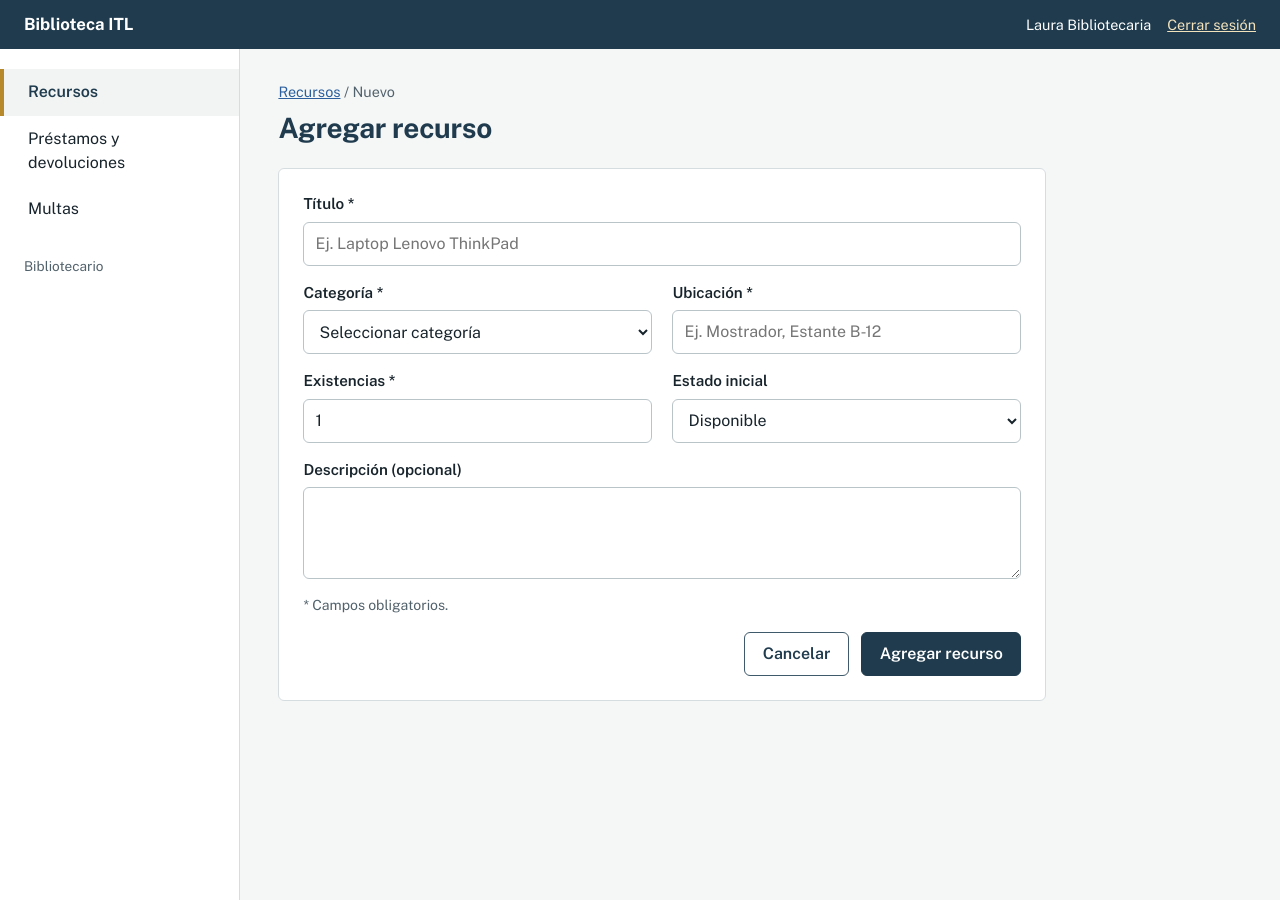
Recursos (CU03) › el formulario marca cada campo obligatorio que falta y no envía
The width and height of the screenshot is (1280, 900).
Clear the number field labelled "Existencias *" at (478, 421), box [303, 399, 652, 443]
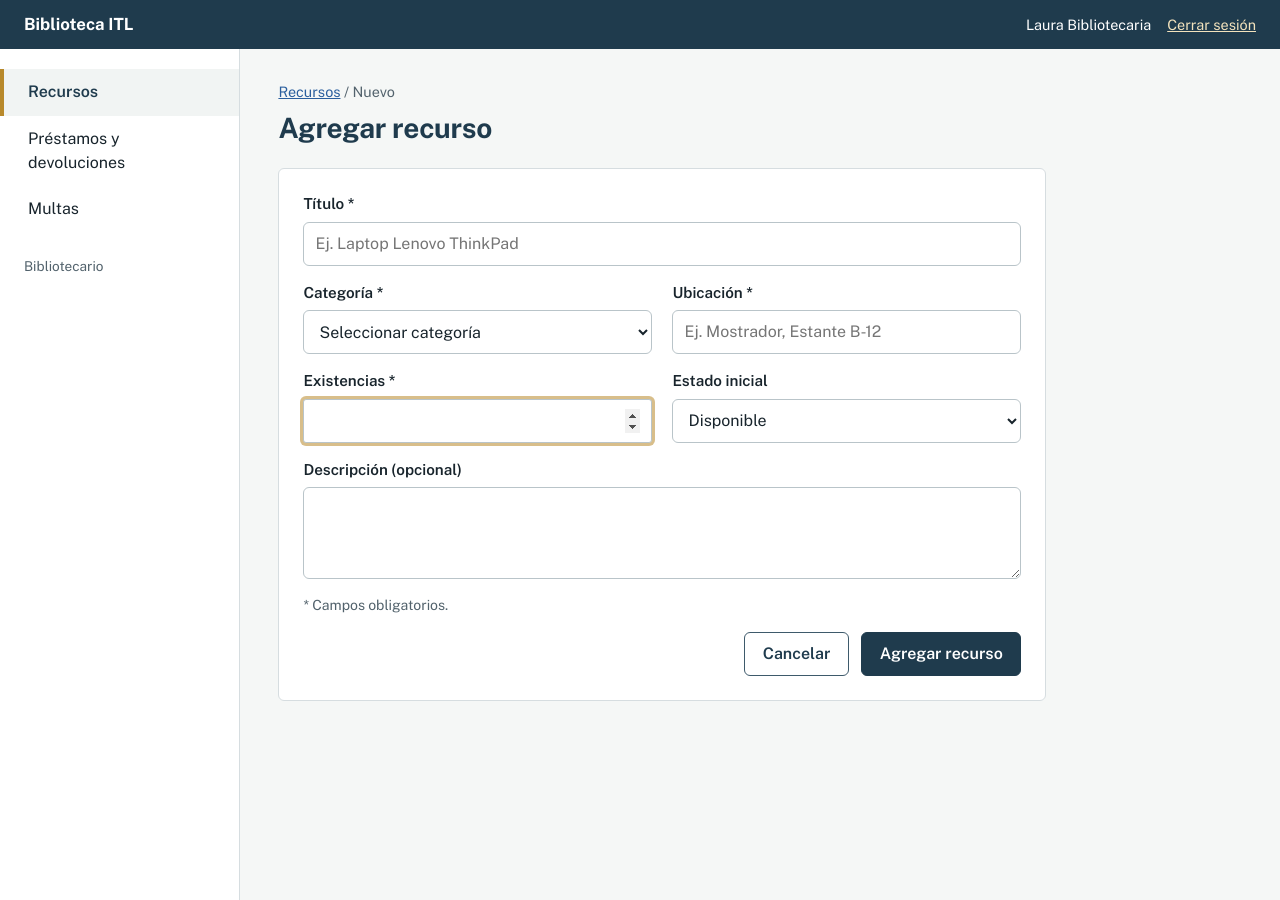
Click the button "Agregar recurso".
click(941, 654)  # box [861, 632, 1021, 676]
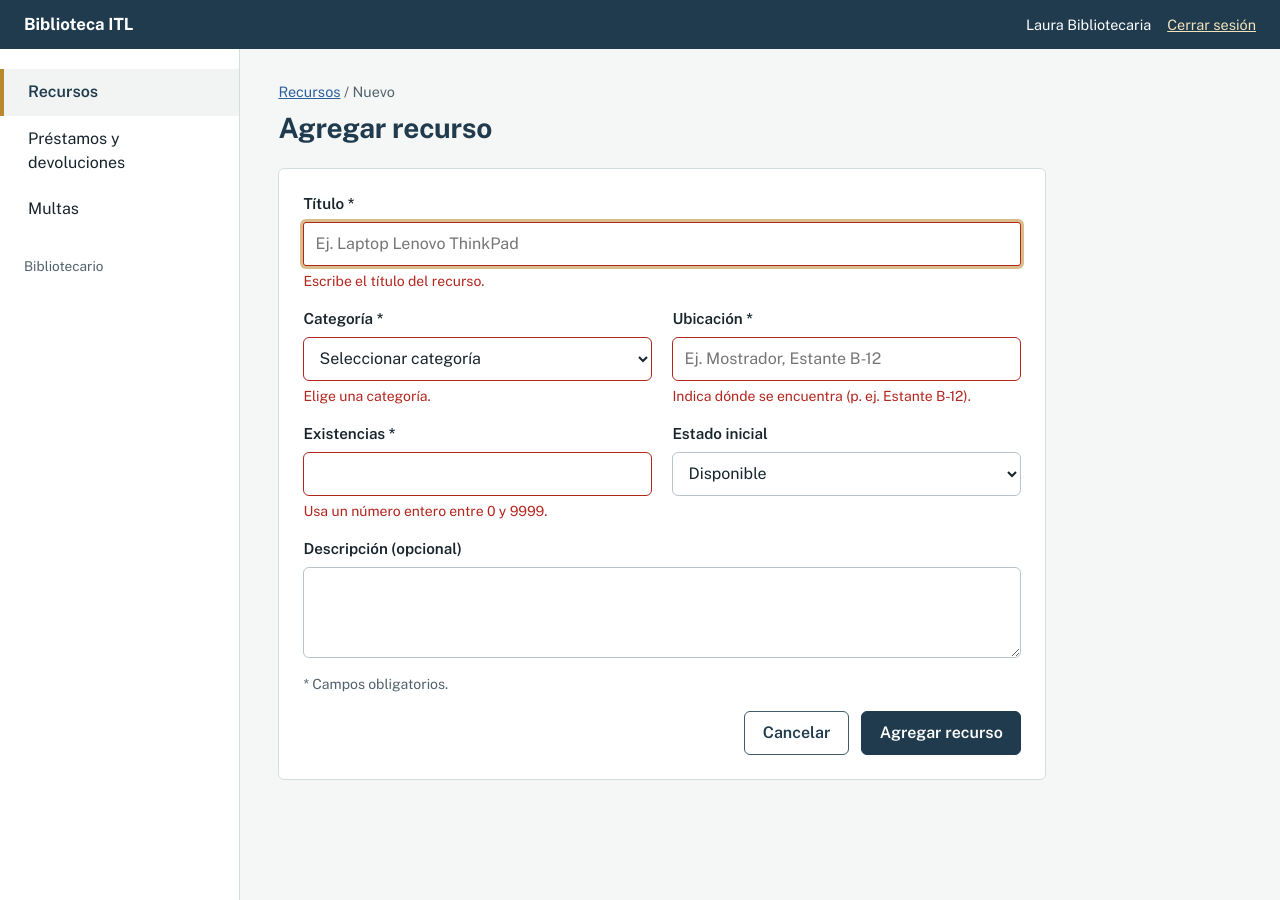
Result: the text "Escribe el título del recurso." is shown at [303, 273, 484, 289]
Result: the text "Elige una categoría." is shown at [303, 388, 431, 404]
Result: the text "Usa un número entero entre 0 y 9999." is shown at [303, 503, 548, 519]
